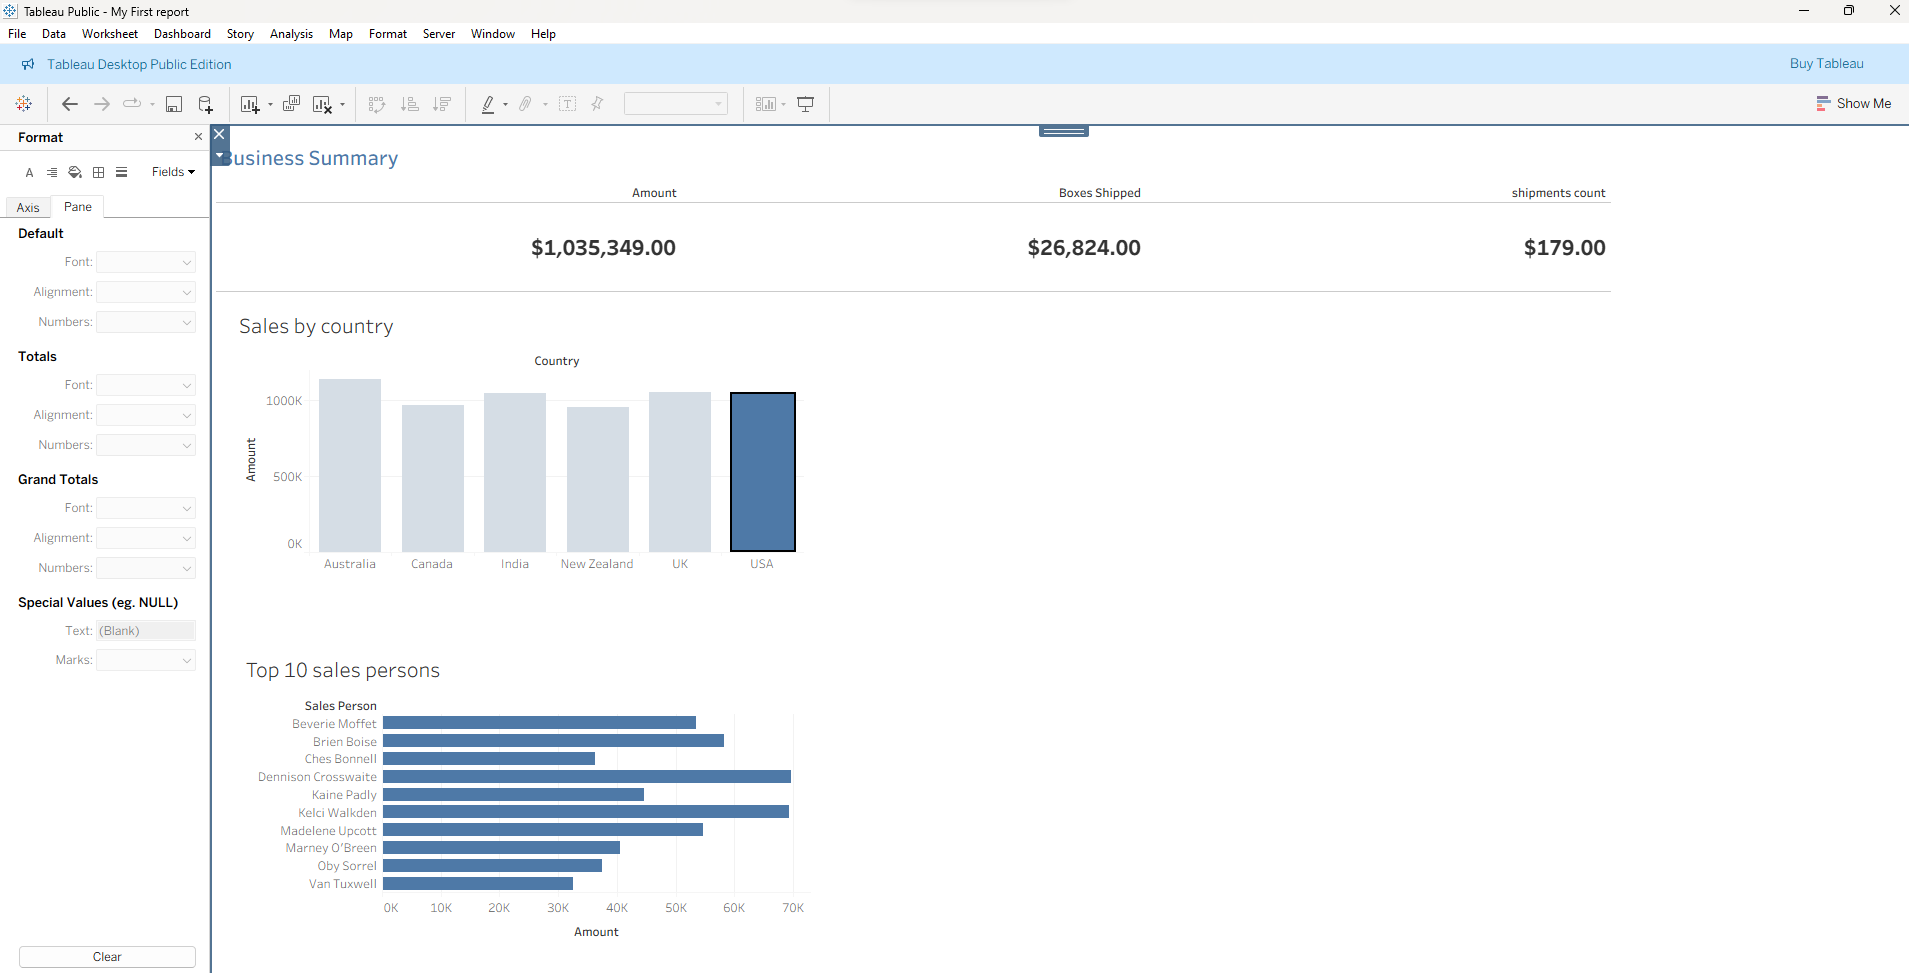

The dashboard page shown, as its layout file describes it:
{"tool":"tableau","page":{"name":"Dashboard 1","canvas":[1000,1000],"units":"permille","ordinal":0},"visuals":[{"type":"worksheet","title":"Sheet 4","mark":"Automatic","box":[3.5,17.5,816.3,178.7]},{"type":"worksheet","title":"Sheet 1","mark":"Automatic","rows":["Amount"],"cols":["Country"],"box":[14.6,213.8,332.9,332.9]},{"type":"worksheet","title":"Sheet 3","mark":"Automatic","rows":["Sales Person"],"cols":["Amount"],"box":[18.7,615.6,332.9,345.8]}]}

Visuals, with their boxes on the dashboard's canvas, which has no fixed pixel size, in thousandths of its width and height (x1, y1, x2, y2). These are canvas units, not pixel positions in the 1909x973 screenshot, which may show the page scaled, cropped or inside an application window:
"Sheet 4" worksheet: <box>4,18,820,196</box>
"Sheet 1" worksheet: <box>15,214,348,547</box>
"Sheet 3" worksheet: <box>19,616,352,961</box>
